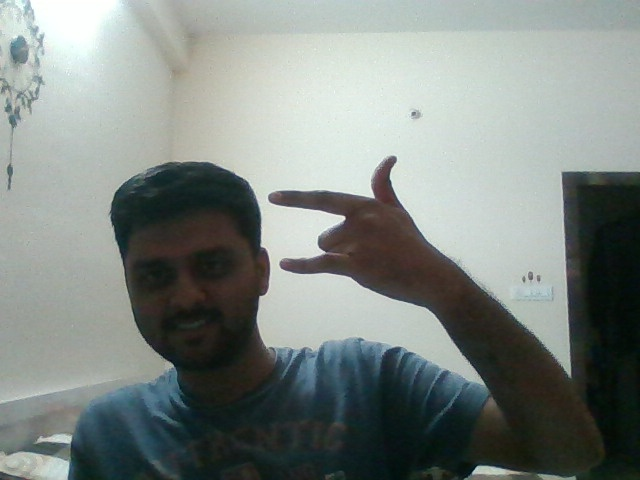haila: (265, 153, 478, 303)
